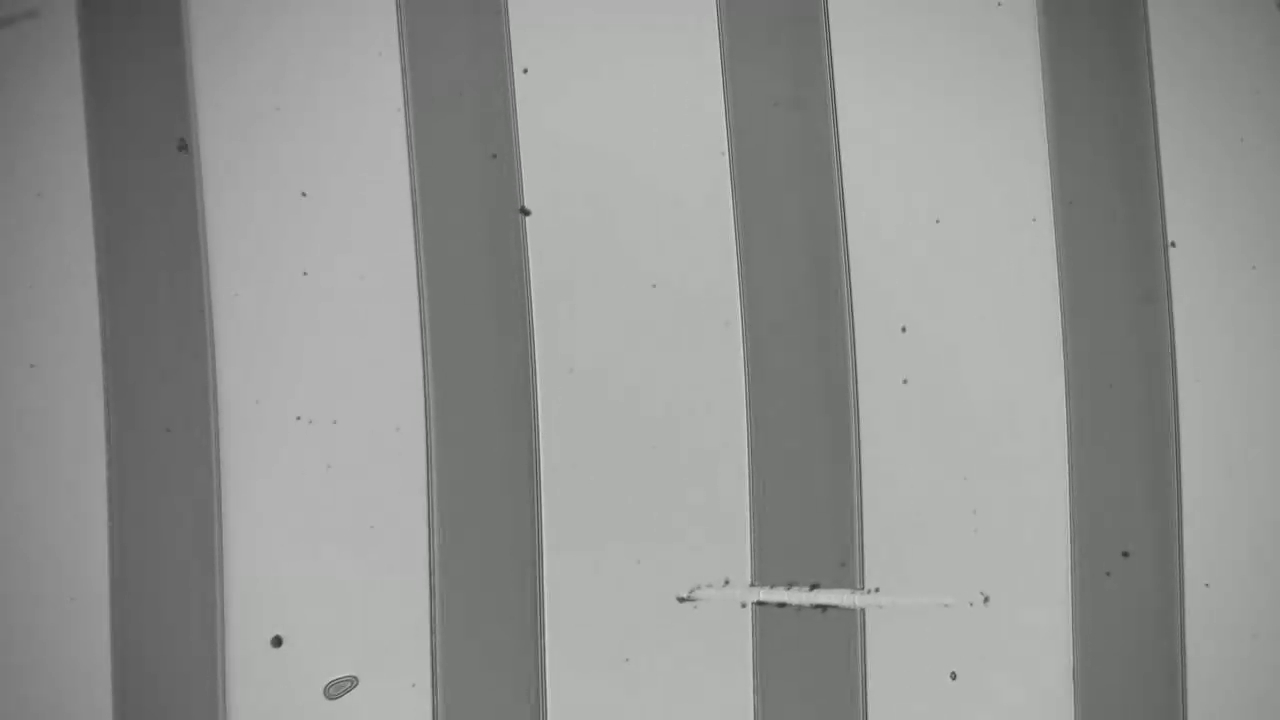Short_circuit: (734, 559, 893, 637)
